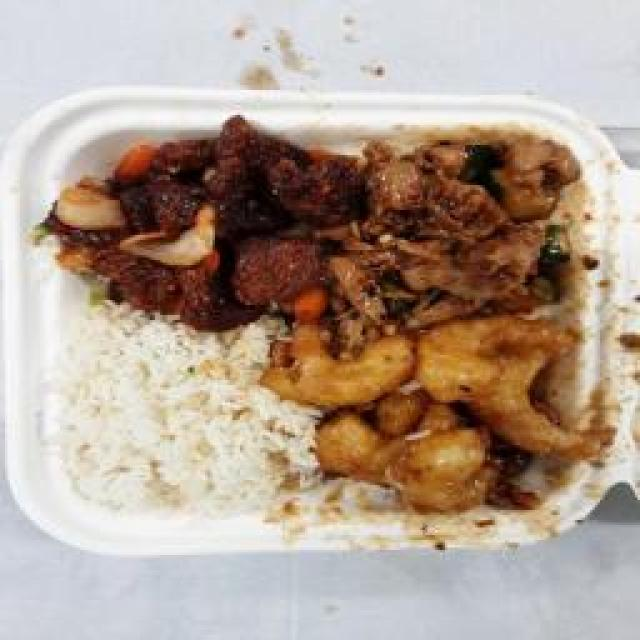Wet Waste: (288, 300, 600, 518), (50, 118, 360, 322), (342, 125, 580, 330), (52, 318, 290, 518)
